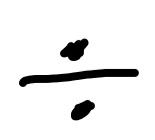div: (19, 40, 139, 121)
